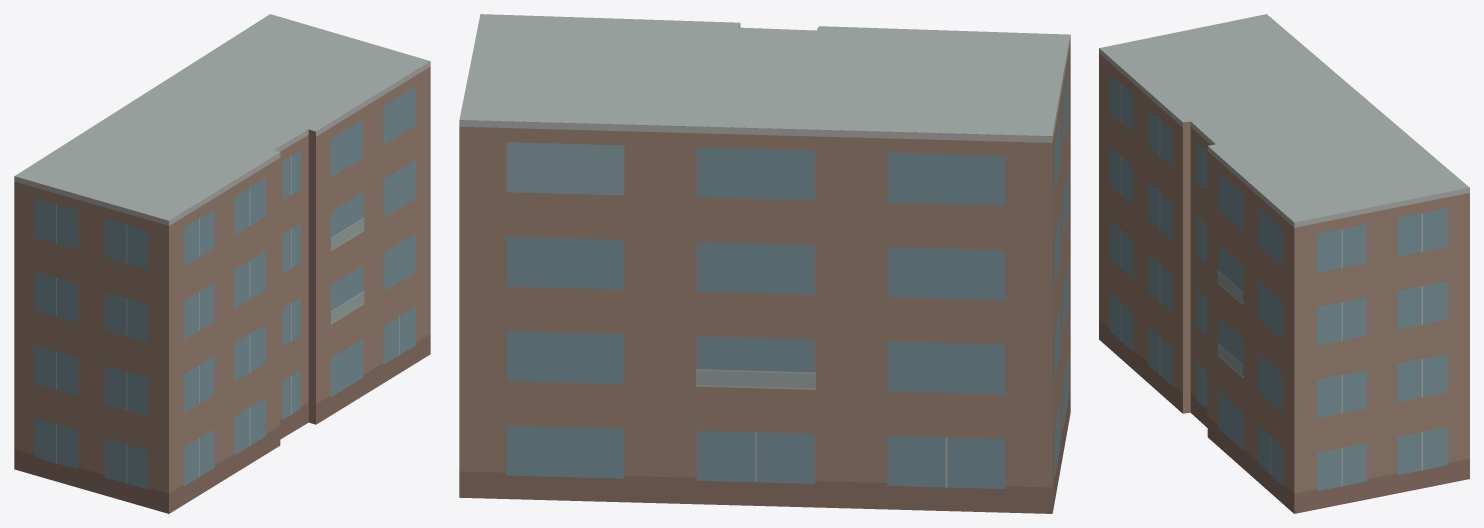
Rendered from survey-upis-32638993.glb.
3 views of the same model, side by side, from view 1: azimuth 30°, elevation 25°; view 2: azimuth 150°, elevation 25°; view 3: azimuth 270°, elevation 25° (orthographic). The views are drawn at different scales.
Visible parts, largest first — view 1: survey-upis-32638993.tmp; view 2: survey-upis-32638993.tmp; view 3: survey-upis-32638993.tmp.
Part boxes in pixels (x1,y1,x2,y2): survey-upis-32638993.tmp: [14, 14, 430, 513]; survey-upis-32638993.tmp: [459, 14, 1070, 513]; survey-upis-32638993.tmp: [1099, 14, 1469, 513].
Size of the model in its own units: 20.89 by 13.6 by 15.7.
